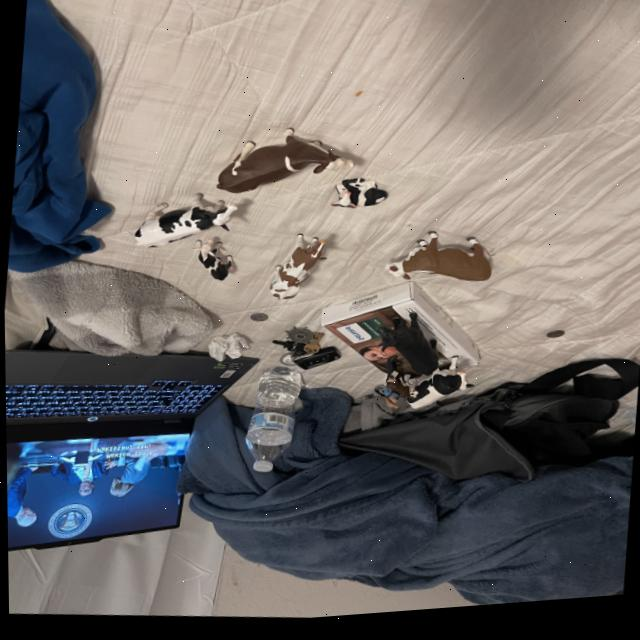cow: (208, 123, 353, 200), (383, 230, 495, 299), (128, 190, 241, 253), (371, 315, 443, 395), (259, 230, 330, 311), (396, 361, 468, 417), (187, 232, 239, 287), (329, 182, 388, 214), (383, 382, 411, 405)
person: (379, 388, 401, 416)
